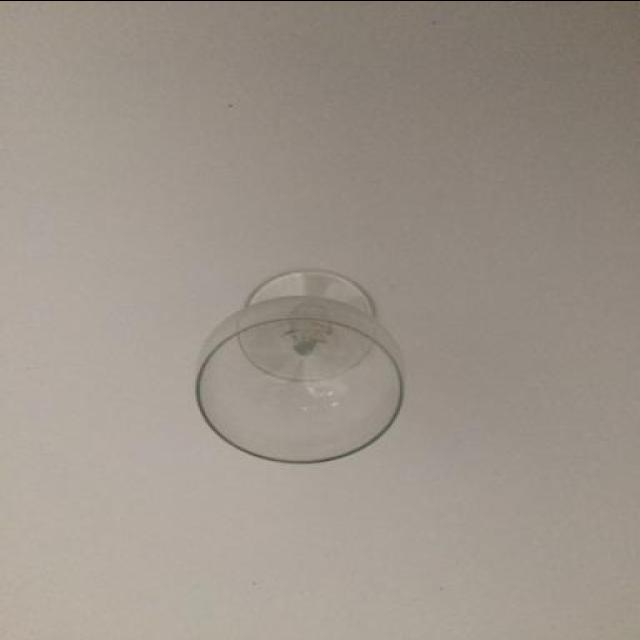glass: (193, 268, 407, 462)
